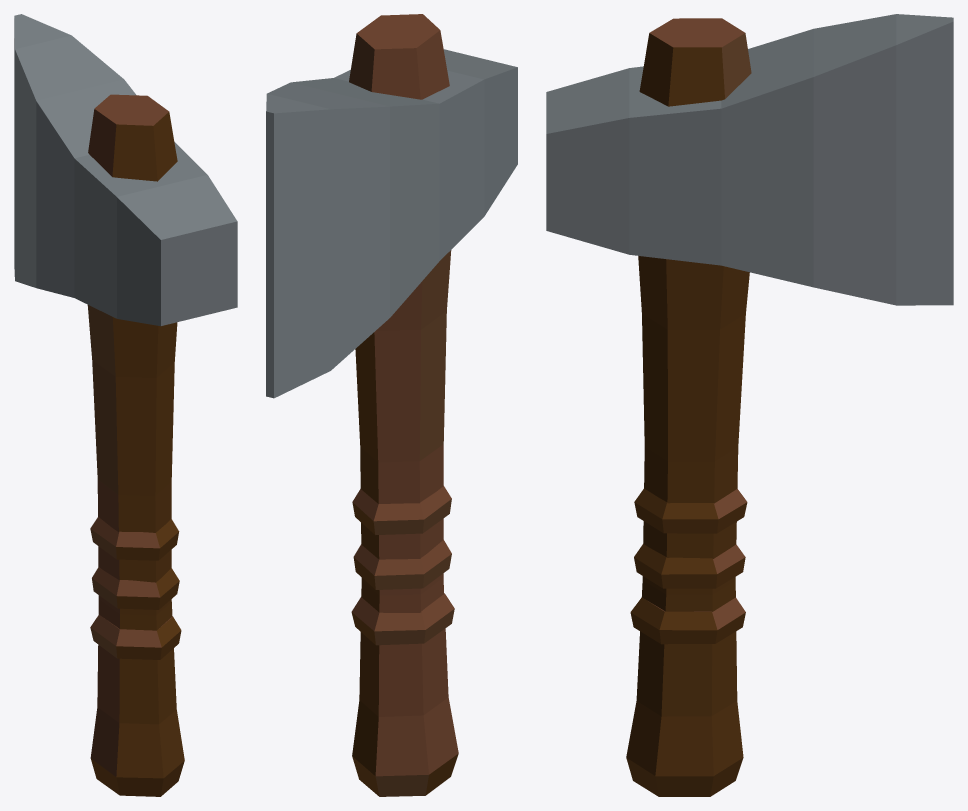
The model's file is axe_a.glb.
The picture shows the model from 3 angles, left to right: view 1: azimuth 30°, elevation 25°; view 2: azimuth 150°, elevation 25°; view 3: azimuth 270°, elevation 25°; orthographic projection. The views are drawn at different scales.
Parts seen in each view (by area): view 1: handle, head; view 2: head, handle; view 3: head, handle.
Part boxes in pixels (x1,y1,x2,y2): handle: (87,94,184,796); head: (14,14,237,326); head: (266,49,517,398); handle: (349,14,458,796); head: (546,14,953,305); handle: (626,18,751,796).
Size of the model in its own units: 0.066 by 0.456 by 0.221.
